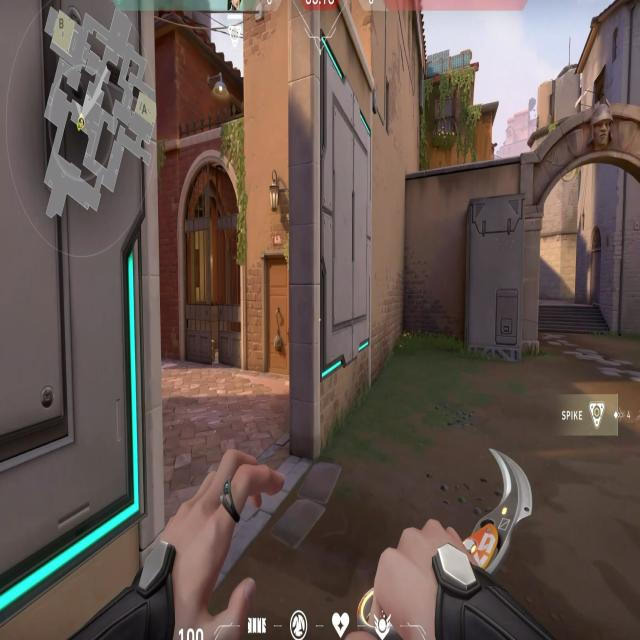Mid_Wall: (314, 18, 384, 400)
